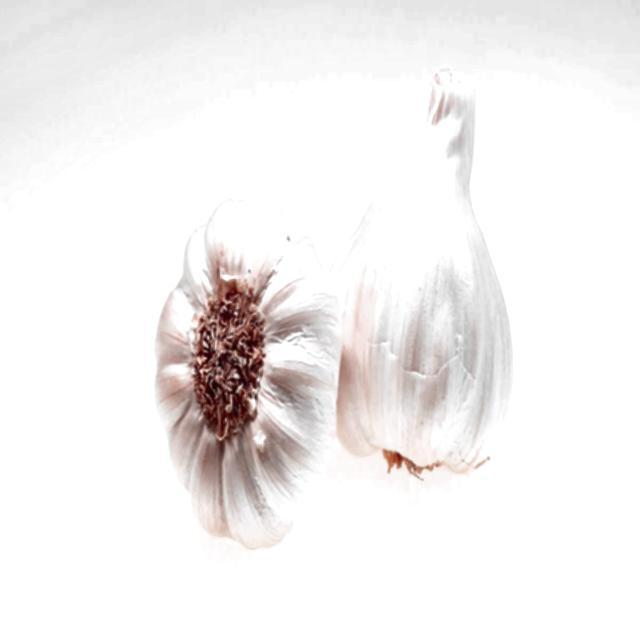garlic: (338, 74, 511, 474), (156, 201, 339, 548)
